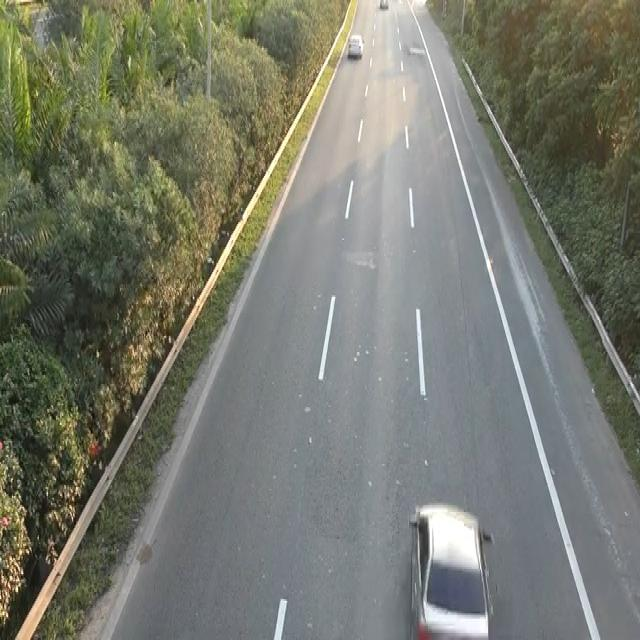bus: (405, 496, 496, 636), (346, 30, 364, 59)
